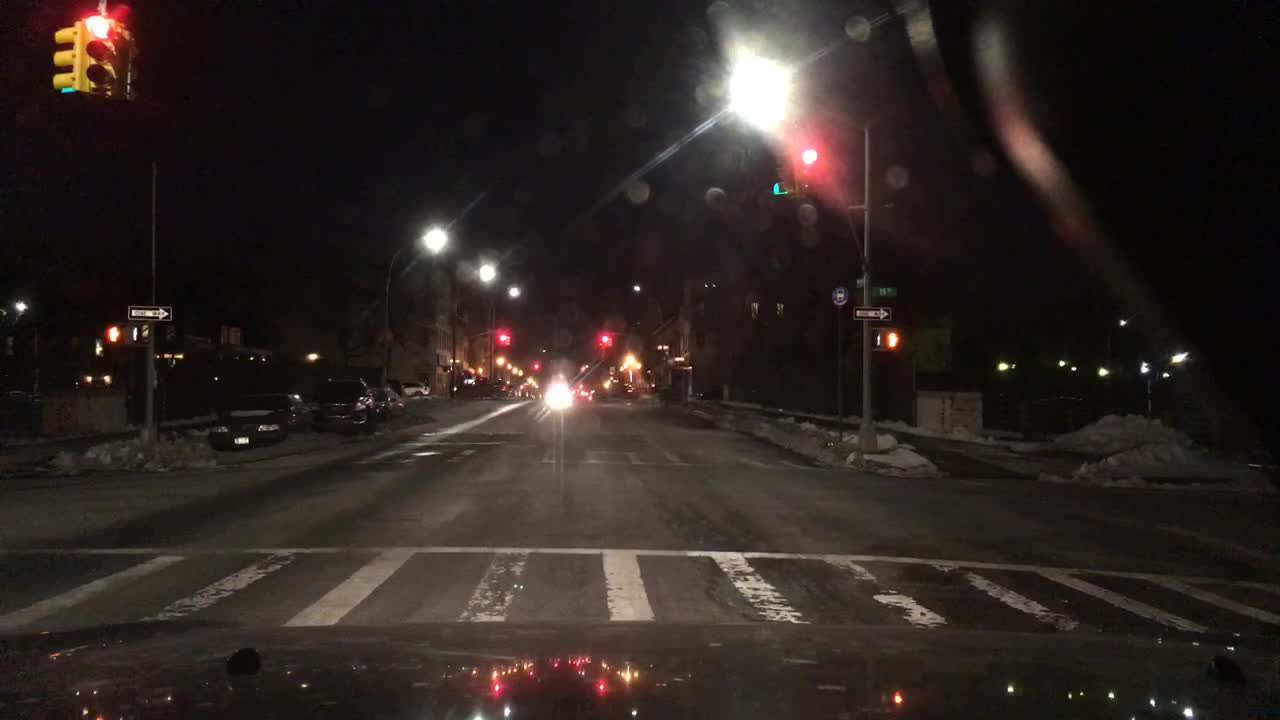car: (206, 388, 308, 451), (305, 374, 382, 436), (369, 385, 407, 421), (75, 366, 117, 390), (457, 375, 484, 399), (482, 377, 510, 399), (402, 379, 431, 399), (624, 379, 657, 396), (385, 374, 409, 396), (567, 383, 596, 401), (523, 385, 545, 399), (506, 381, 523, 396)
traffic light: (83, 15, 119, 100), (48, 19, 81, 98), (117, 23, 143, 107), (770, 133, 798, 202), (802, 136, 818, 182), (882, 329, 902, 351), (105, 324, 123, 347), (598, 335, 613, 346), (529, 359, 542, 371), (499, 330, 508, 346)
traffic sign: (125, 303, 174, 325), (218, 322, 244, 348), (851, 306, 890, 322), (869, 284, 901, 300), (831, 284, 851, 308)
